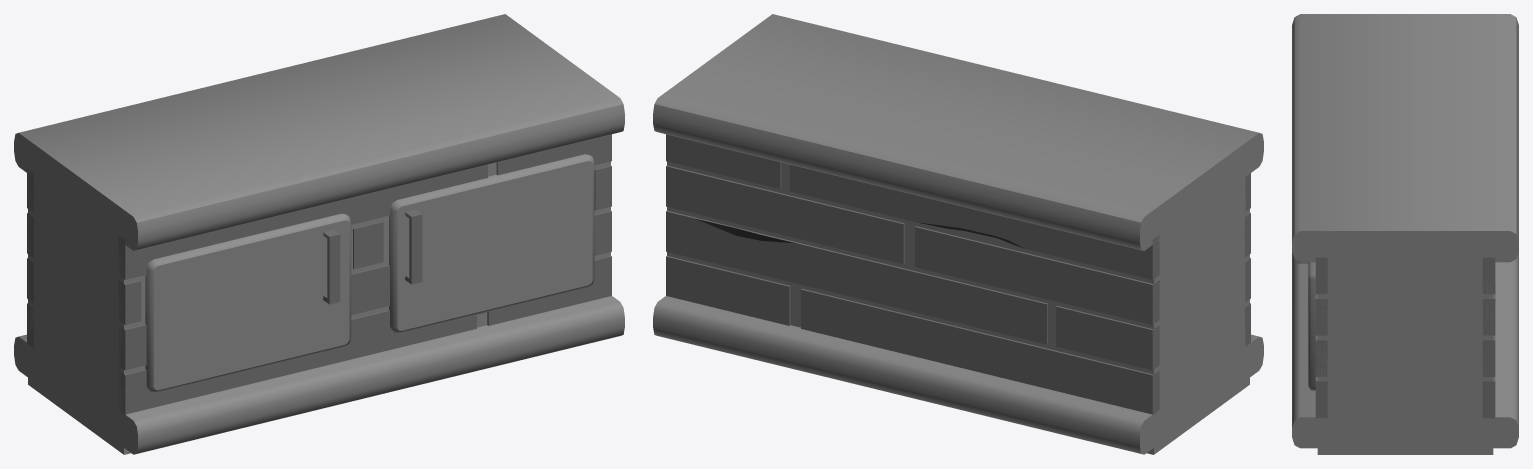
Rendered from space_counter_doors.glb.
3 renders of one model, left to right at view 1: azimuth 30°, elevation 25°; view 2: azimuth 150°, elevation 25°; view 3: azimuth 270°, elevation 25°, orthographic. The views are drawn at different scales.
Parts seen in each view (by area): view 1: Environment_Counter_Doors; view 2: Environment_Counter_Doors; view 3: Environment_Counter_Doors.
Boxes of the visible parts, x1=… form: Environment_Counter_Doors: x1=14, y1=14, x2=624, y2=454; Environment_Counter_Doors: x1=653, y1=14, x2=1263, y2=454; Environment_Counter_Doors: x1=1292, y1=14, x2=1518, y2=454.
Size of the model in its own units: 4 by 1.92 by 1.77.
Materials: 1 (1 with a texture image).
